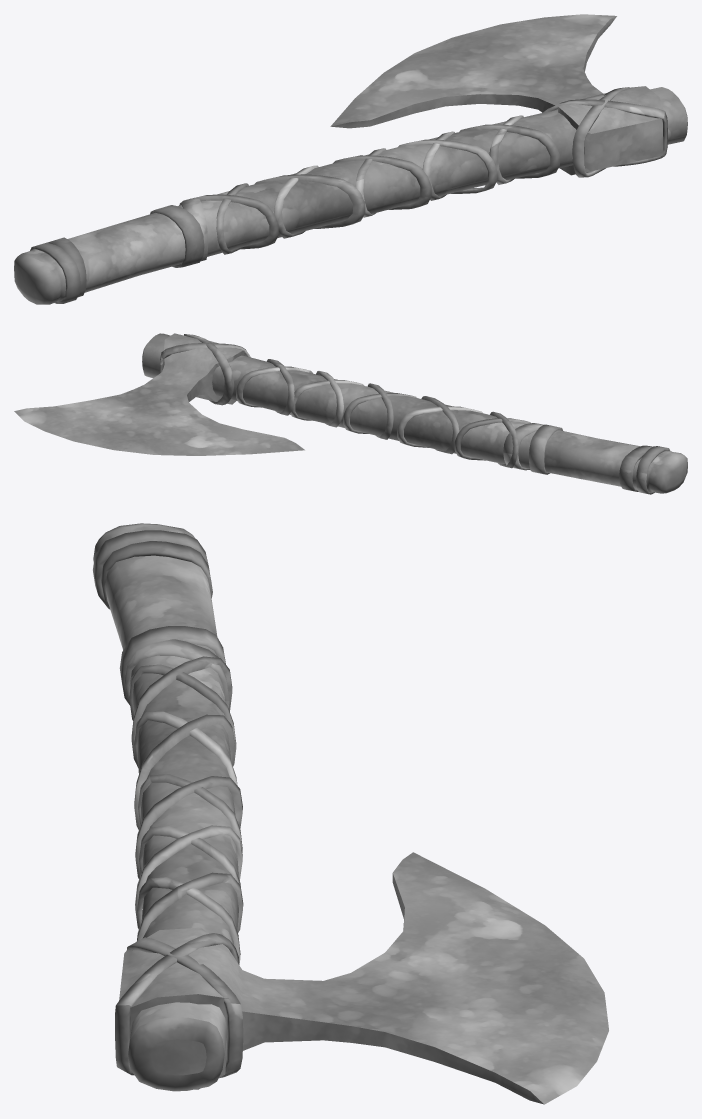
The model's file is SM_Axe_01a.fbx.
3 renders of one model, top to bottom at view 1: azimuth 30°, elevation 25°; view 2: azimuth 150°, elevation 25°; view 3: azimuth 270°, elevation 25°, orthographic. The views are drawn at different scales.
Parts seen in each view (by area): view 1: SM_Axe_01a_LOD0; view 2: SM_Axe_01a_LOD0; view 3: SM_Axe_01a_LOD0.
Part boxes in pixels (<box>): SM_Axe_01a_LOD0: <box>14,14,687,304</box>; SM_Axe_01a_LOD0: <box>14,333,687,494</box>; SM_Axe_01a_LOD0: <box>93,523,608,1104</box>.
Size of the model in its own units: 65.98 by 26.08 by 5.73.
